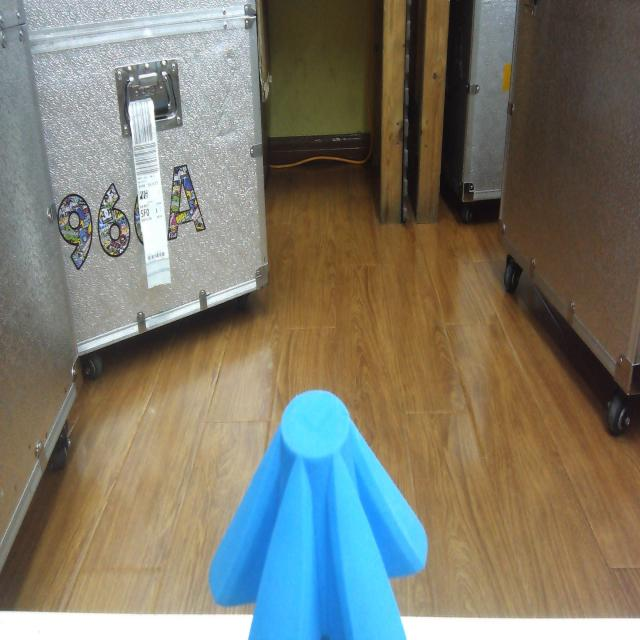zblue-Stake-Head: (208, 389, 428, 640)
